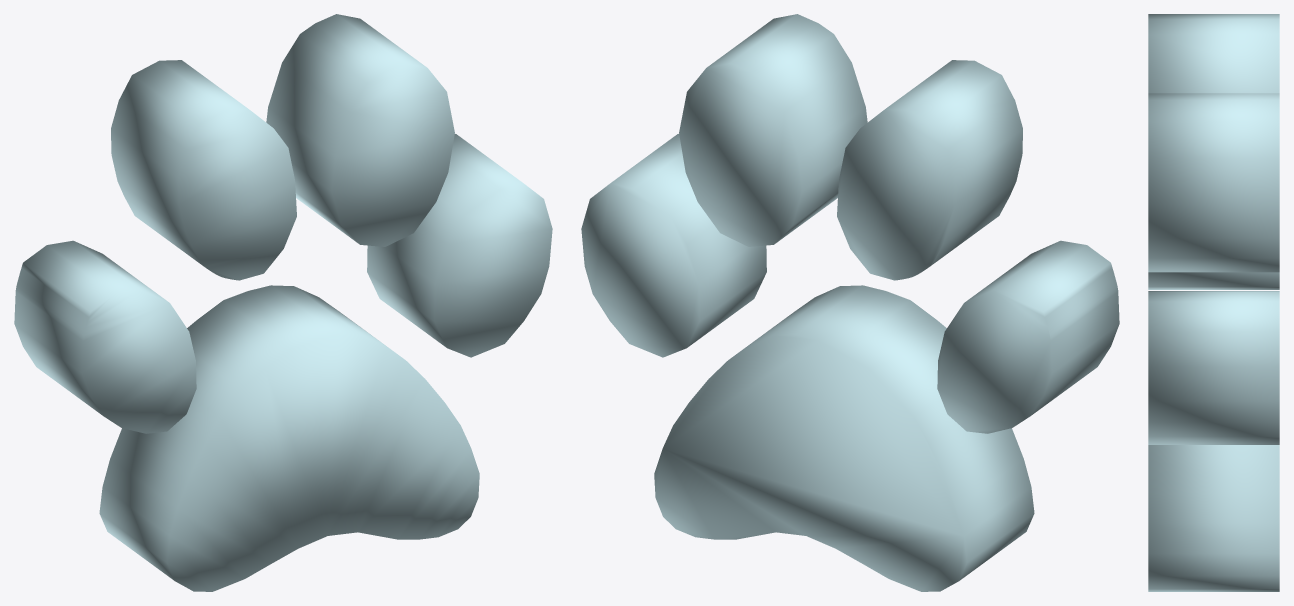
The model's file is cat_paw.glb.
The picture shows the model from 3 angles, left to right: view 1: azimuth 30°, elevation 25°; view 2: azimuth 150°, elevation 25°; view 3: azimuth 270°, elevation 25°; orthographic projection. The views are drawn at different scales.
Visible parts, largest first — view 1: ColorMaterial; view 2: ColorMaterial; view 3: ColorMaterial.
Boxes of the visible parts, <box> form: ColorMaterial: <box>14,14,552,591</box>; ColorMaterial: <box>581,14,1119,591</box>; ColorMaterial: <box>1148,14,1279,591</box>.
Bounding box in the file's own units: 1.57 × 1.54 × 0.3907.
